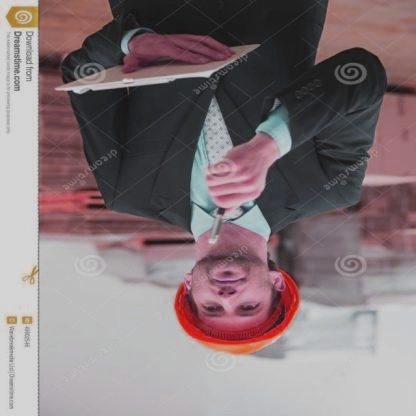yellow: (167, 266, 311, 364)
